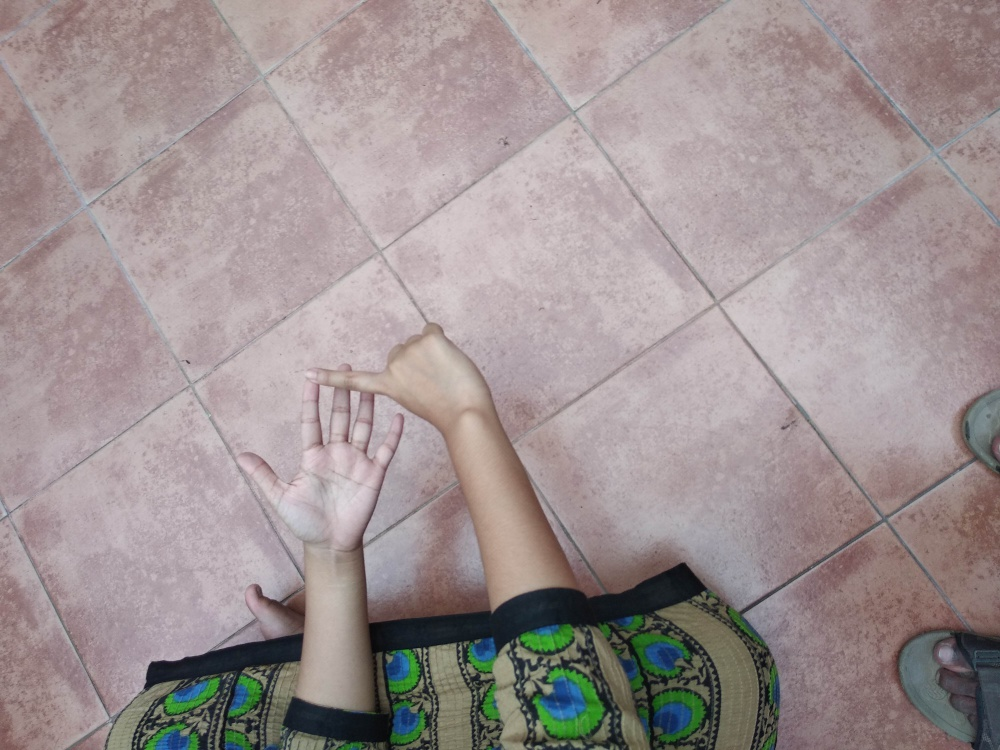o: (232, 332, 493, 530)
